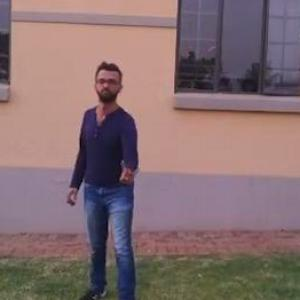takeoff-hand: (115, 154, 146, 184)
